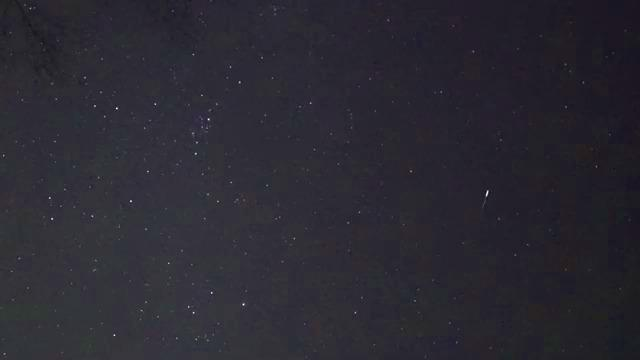meteorite: (471, 184, 498, 216)
